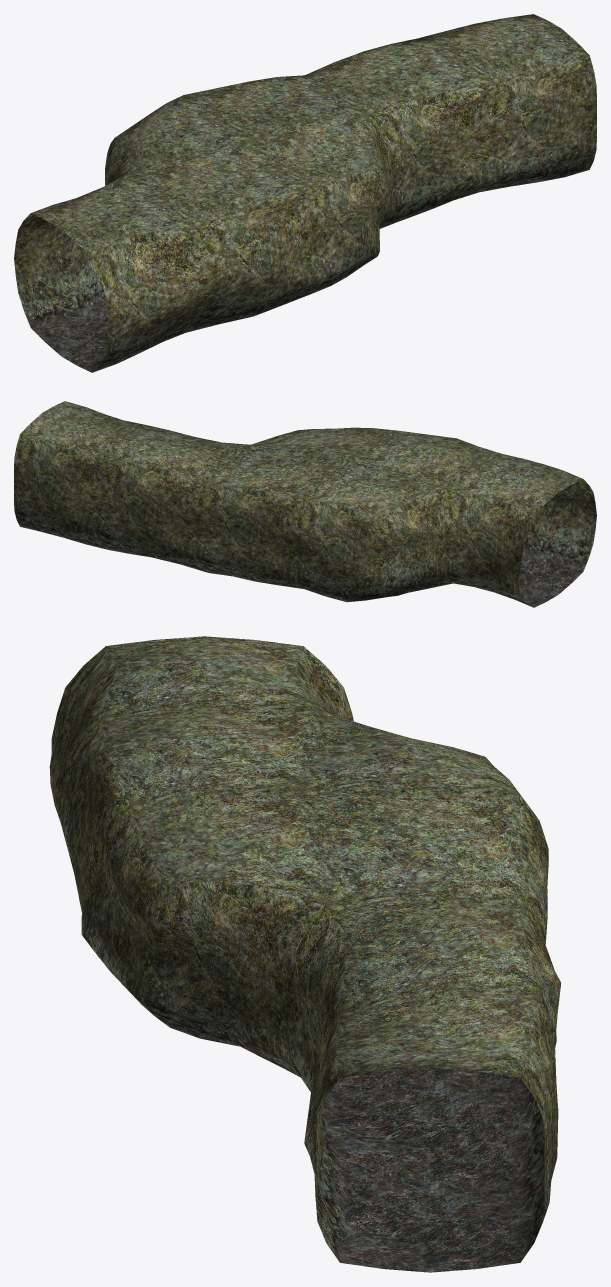
Rendered from thm_all_cave_s03_damprock_r3_r3.fbx.
The picture shows the model from 3 angles, top to bottom: view 1: azimuth 30°, elevation 25°; view 2: azimuth 150°, elevation 25°; view 3: azimuth 270°, elevation 25°; orthographic projection. The views are drawn at different scales.
Parts seen in each view (by area): view 1: mesh_node; view 2: mesh_node; view 3: mesh_node.
Part boxes in pixels (<box>): mesh_node: <box>14,14,596,372</box>; mesh_node: <box>14,401,596,607</box>; mesh_node: <box>49,636,560,1272</box>.
Size of the model in its own units: 37.27 by 8.92 by 17.95.
